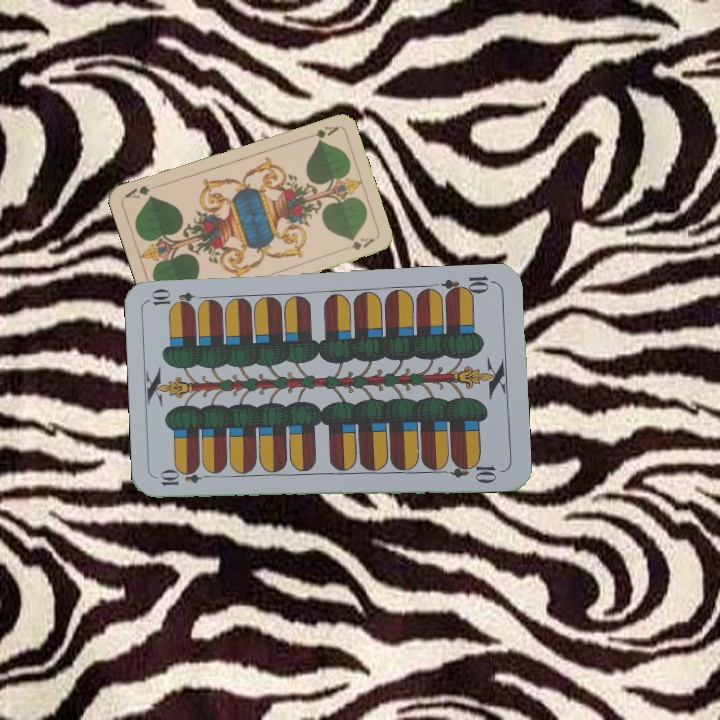E10: (438, 272, 497, 300), (156, 468, 215, 489)
GA: (301, 122, 341, 141)
